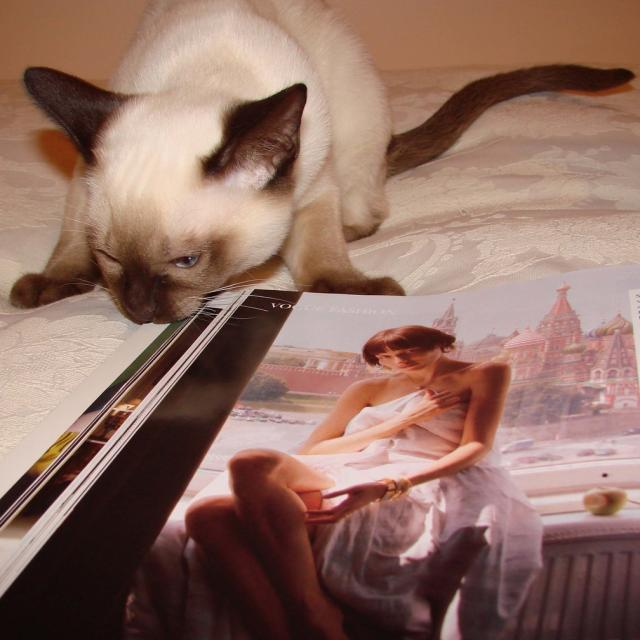Cat: (16, 0, 638, 333)
